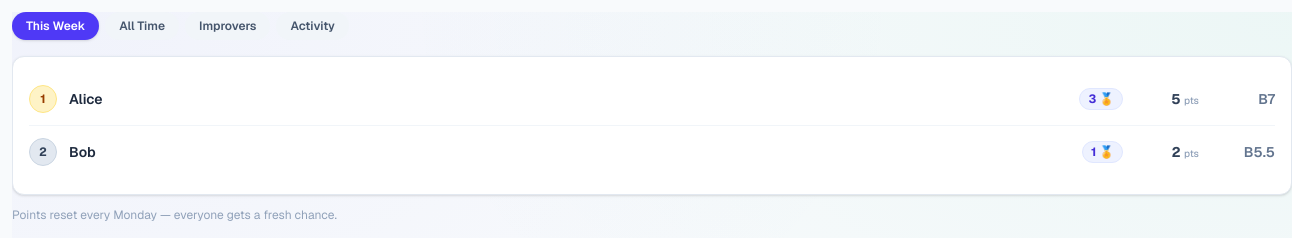
Test: CommunityTabs › shows improvement on the Improvers tab
What coordinates should you click on to do the following:
click the button "Improvers"
I would click on:
 (228, 26)
Its box is x1=185 y1=12 x2=270 y2=40.
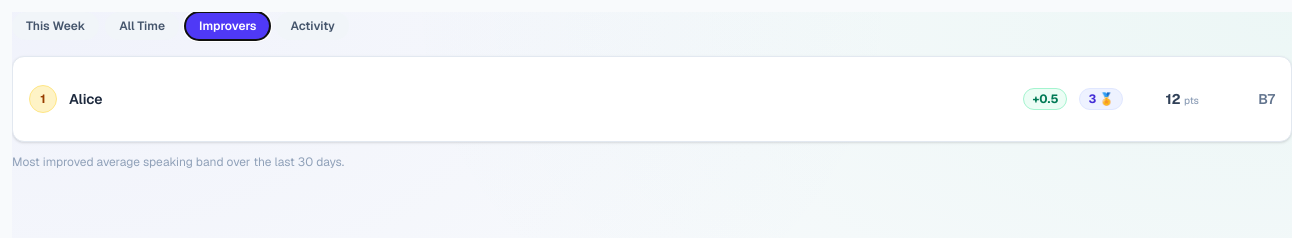
Result: the text "+0.5" is shown at x1=1023 y1=88 x2=1067 y2=110
Result: the text "Most improved average speaking band over the last 30 days." is shown at x1=12 y1=154 x2=344 y2=170
